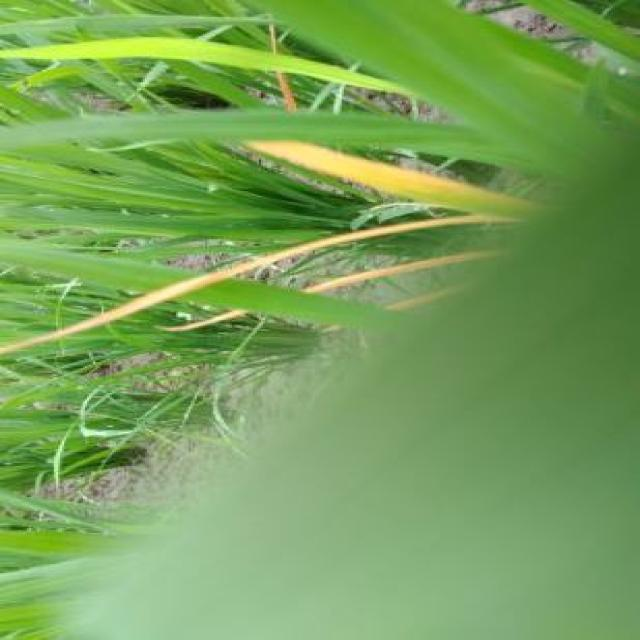Tungro: (0, 240, 479, 344), (238, 133, 522, 218)
